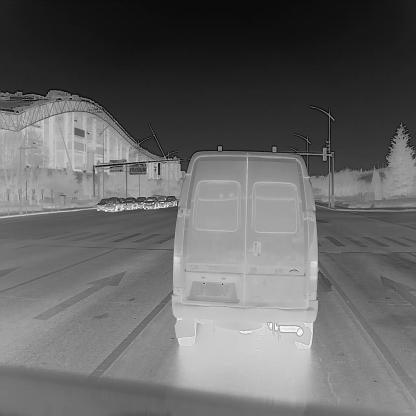car: (174, 148, 317, 348), (102, 196, 122, 212), (121, 196, 138, 210), (96, 198, 110, 212), (143, 196, 159, 208), (156, 195, 169, 208), (136, 196, 146, 208), (166, 195, 176, 206), (116, 195, 126, 204)
